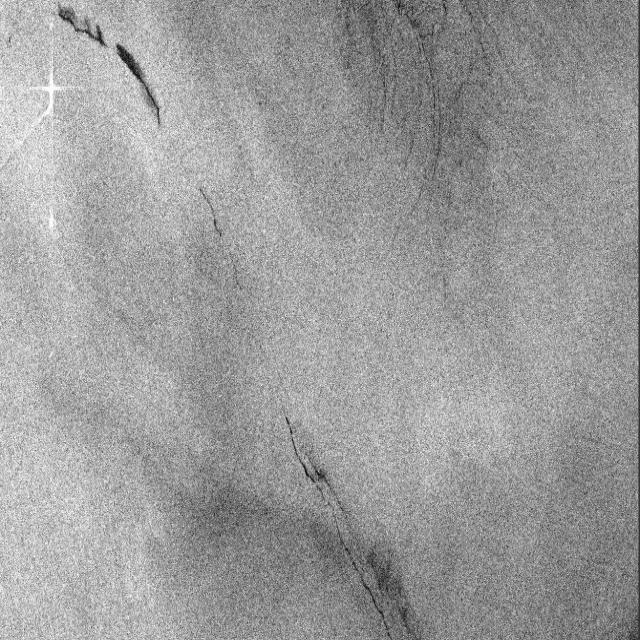look-alike: (330, 3, 454, 190)
oil-spill: (59, 4, 173, 132), (334, 530, 414, 640), (274, 392, 342, 520), (192, 176, 246, 301)
ship: (29, 64, 69, 120)
